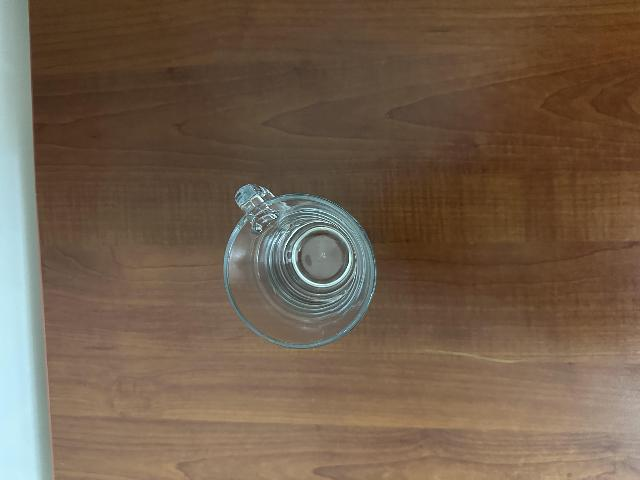Cam: (222, 182, 379, 351)
